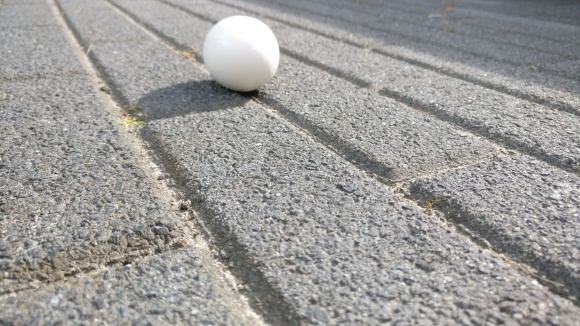egg: (203, 13, 283, 95)
